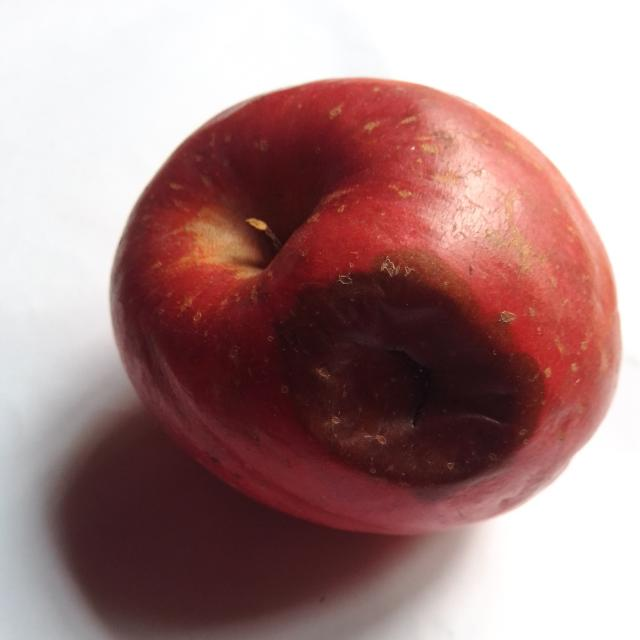apple: (112, 80, 620, 533)
